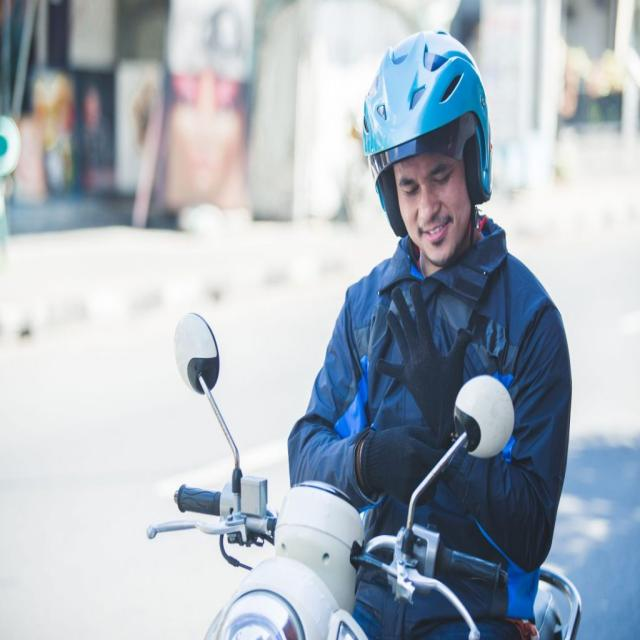illegal_helmet: (356, 26, 497, 267)
